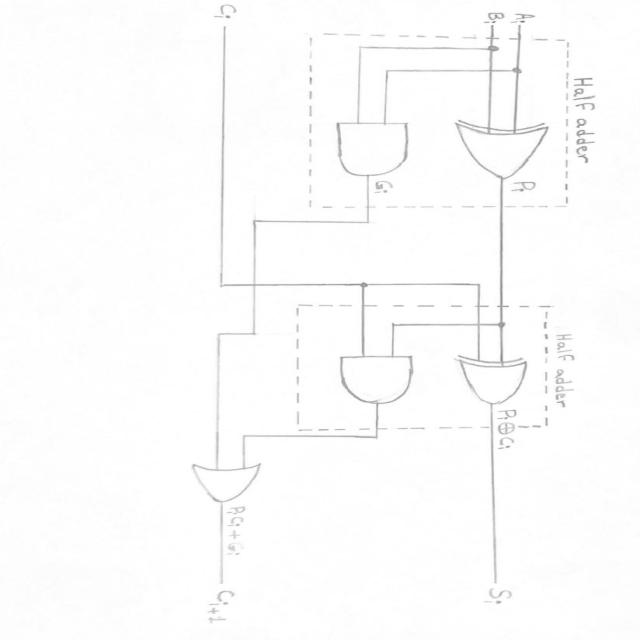AND: (324, 114, 418, 182), (328, 348, 424, 408)
OR: (184, 460, 280, 507)
XOR: (441, 115, 558, 186), (439, 349, 543, 408)
